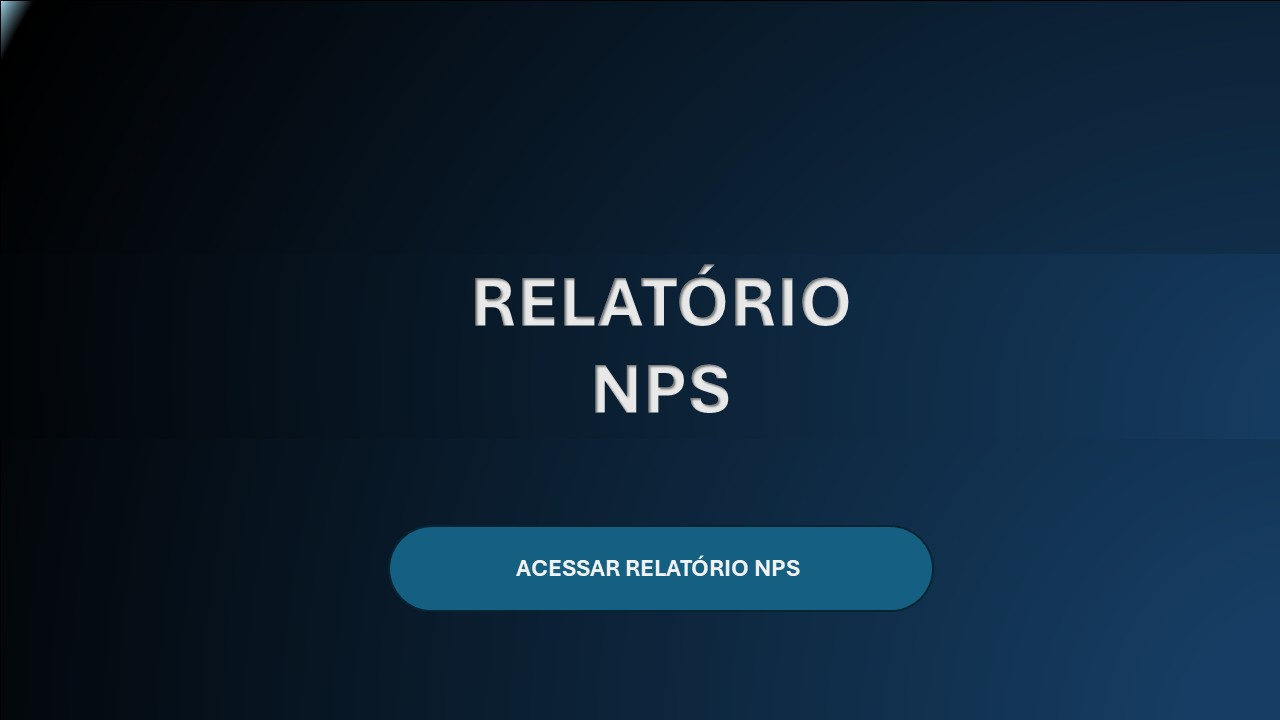

This screenshot's page, from the dashboard's own definition file:
{"tool":"powerbi","page":{"name":"Capa","canvas":[1280,720],"ordinal":0},"visuals":[{"type":"actionButton","box":[390.2,527,540,82.1],"z":0}]}

Visuals, with their boxes in screenshot pixels (x1, y1, x2, y2), scaled from the page's 1280x720 canvas onto the 1280x720 screenshot:
actionButton: bbox(390, 527, 930, 609)
